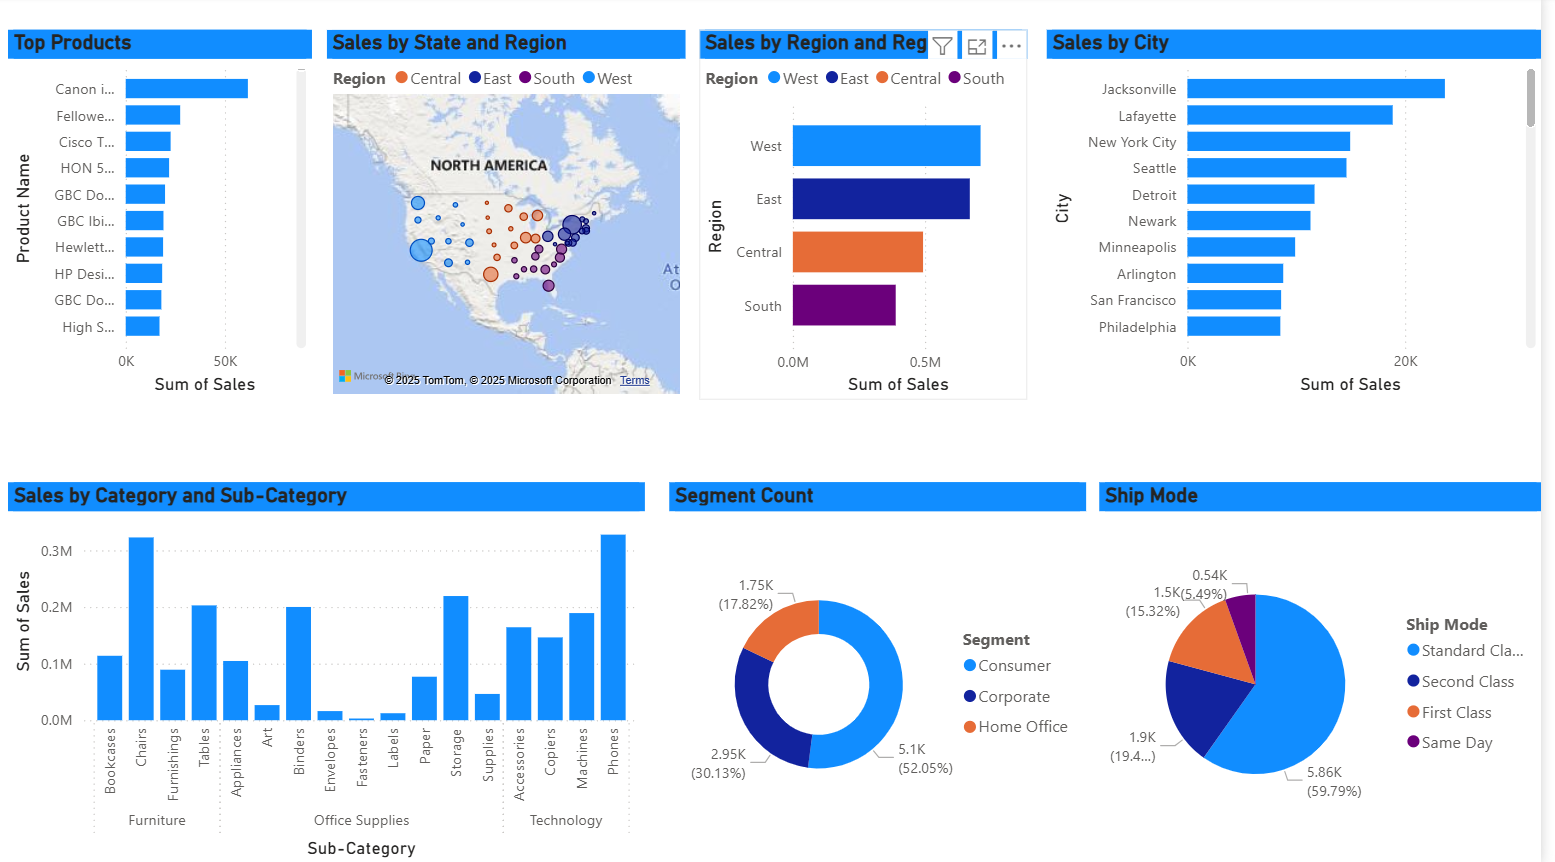

This screenshot's page, from the dashboard's own definition file:
{"tool":"powerbi","page":{"name":"Page 1","canvas":[1280,720],"ordinal":0},"visuals":[{"type":"columnChart","title":"Sales by Category and Sub-Category","fields":{"Category":["train (2).Category","train (2).Sub-Category"],"Y":["Sum(train (2).Sales)"]},"box":[8.1,403.5,527.9,316.3],"z":0},{"type":"map","title":" Sales by State and Region","fields":{"Category":["train (2).State"],"Series":["train (2).Region"],"Size":["Sum(train (2).Sales)"]},"box":[272.1,27.9,297.7,307],"z":1000},{"type":"barChart","title":" Sales by City","fields":{"Y":["Sum(train (2).Sales)"],"Category":["train (2).City"]},"box":[869.8,27.9,410.5,307],"z":2000},{"type":"barChart","title":"Top Products","fields":{"Category":["train (2).Product Name"],"Y":["Sum(train (2).Sales)"]},"box":[8.1,27.9,252.3,307],"z":3000},{"type":"barChart","title":" Sales by Region and Region","fields":{"Category":["train (2).Region"],"Y":["Sum(train (2).Sales)"],"Series":["train (2).Region"]},"box":[581.4,27.9,272.1,307],"z":4000},{"type":"pieChart","title":" Ship Mode","fields":{"Y":["CountNonNull(train (2).Ship Mode)"],"Category":["train (2).Ship Mode"]},"box":[912.8,403.5,367.4,316.3],"z":5000},{"type":"donutChart","title":" Segment Count","fields":{"Category":["train (2).Segment"],"Y":["CountNonNull(train (2).Segment)"]},"box":[557,403.5,345.3,316.3],"z":6000}]}

Visuals, with their boxes in screenshot pixels (x1, y1, x2, y2), scaled from the page's 1280x720 canvas onto the 1555x862 screenshot:
"Sales by Category and Sub-Category" columnChart: crop(10, 483, 651, 861)
" Sales by State and Region" map: crop(331, 33, 692, 401)
" Sales by City" barChart: crop(1057, 33, 1554, 401)
"Top Products" barChart: crop(10, 33, 316, 401)
" Sales by Region and Region" barChart: crop(706, 33, 1037, 401)
" Ship Mode" pieChart: crop(1109, 483, 1554, 861)
" Segment Count" donutChart: crop(677, 483, 1096, 861)
